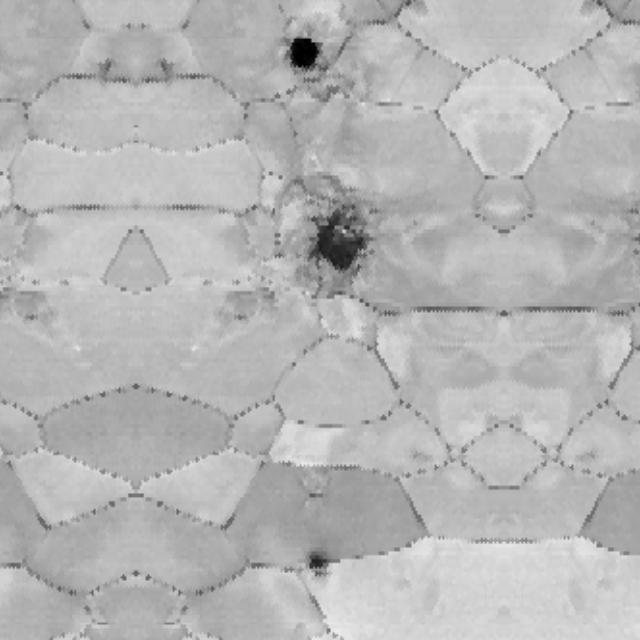good_void: (271, 178, 396, 304), (263, 11, 338, 86), (218, 272, 277, 333), (0, 273, 61, 332), (289, 469, 338, 515), (314, 71, 360, 114), (300, 549, 340, 589), (154, 50, 185, 83), (89, 51, 119, 83)
